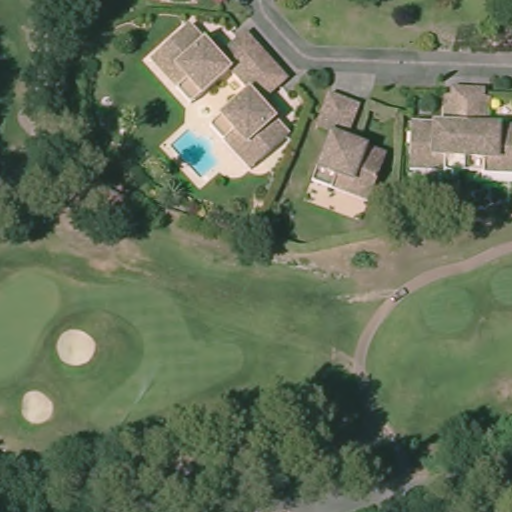pool: (168, 123, 223, 183)
